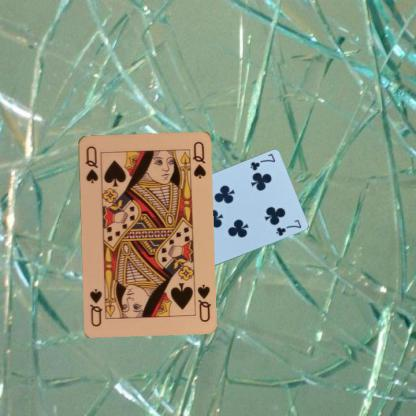7c: (247, 152, 276, 172)
Qs: (195, 281, 212, 323), (82, 143, 99, 184)
